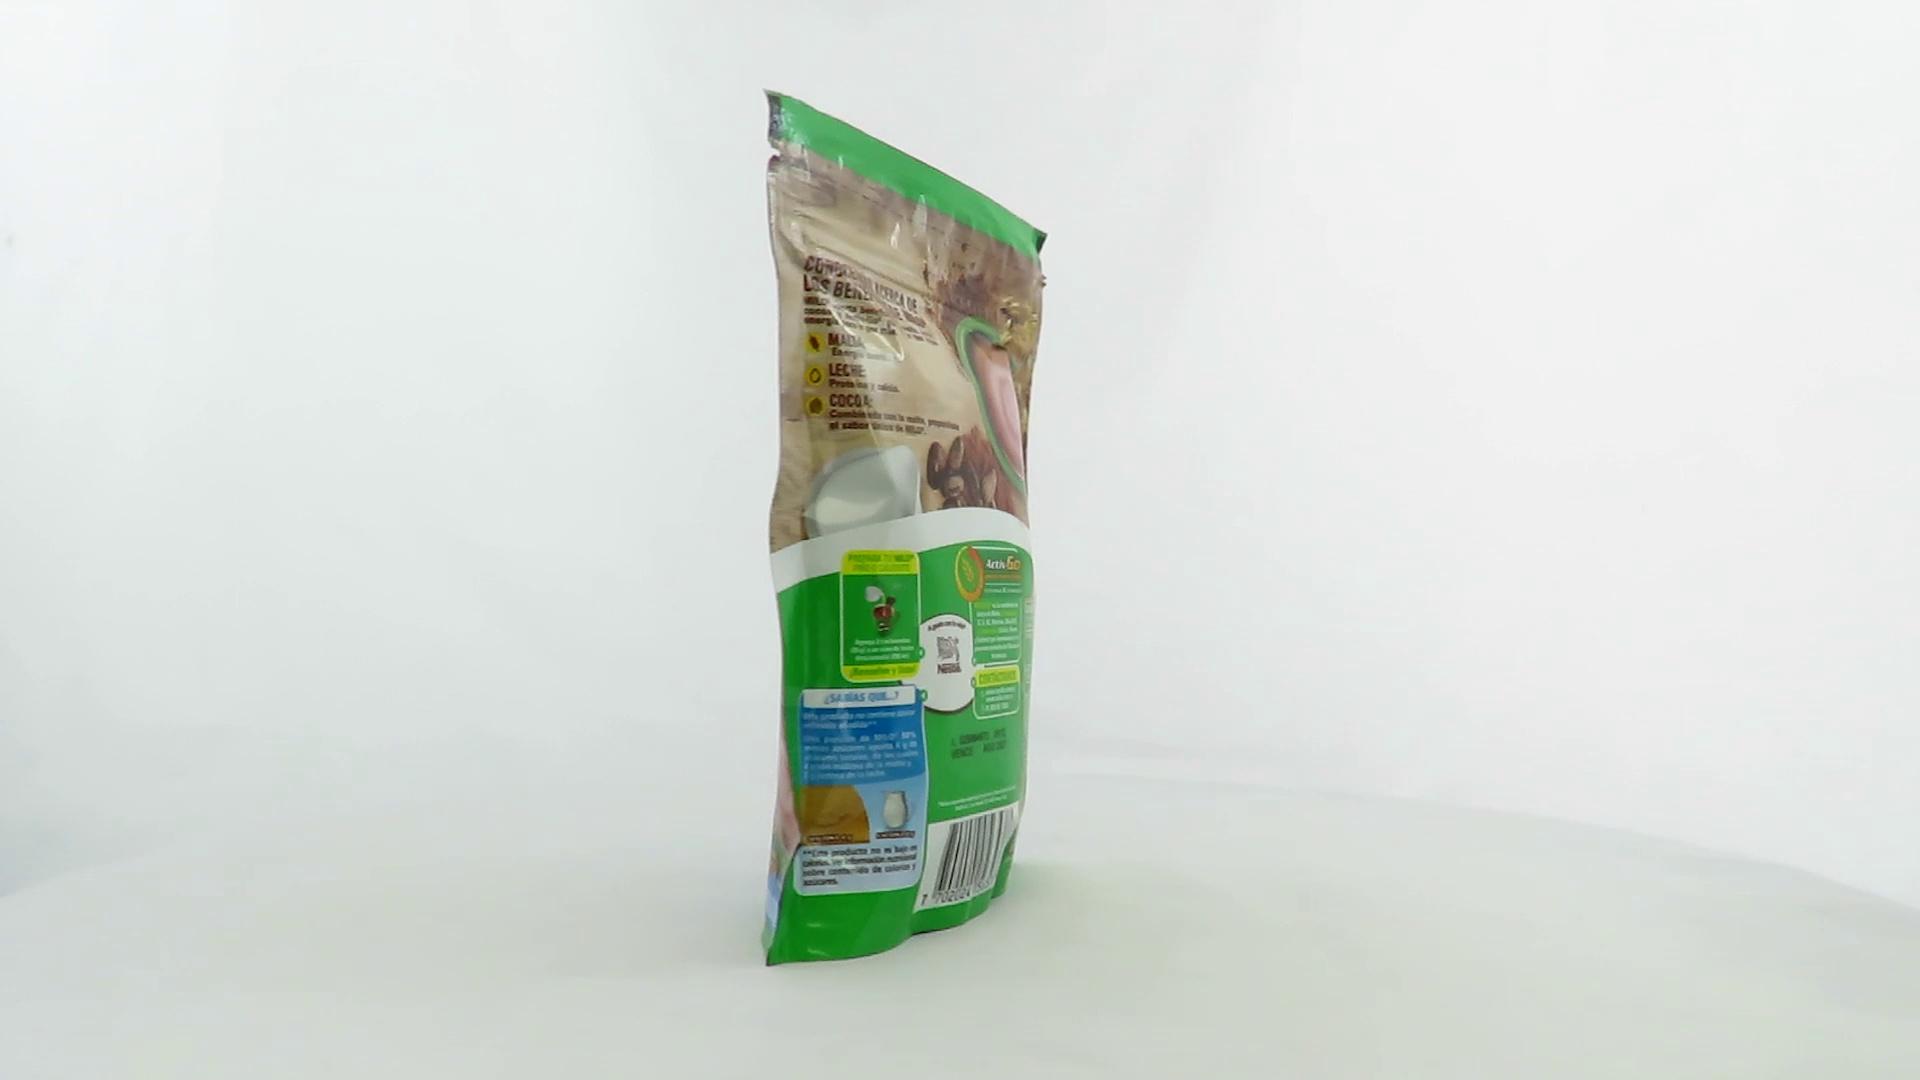COL0170205DYP20000: (757, 83, 1054, 973)
